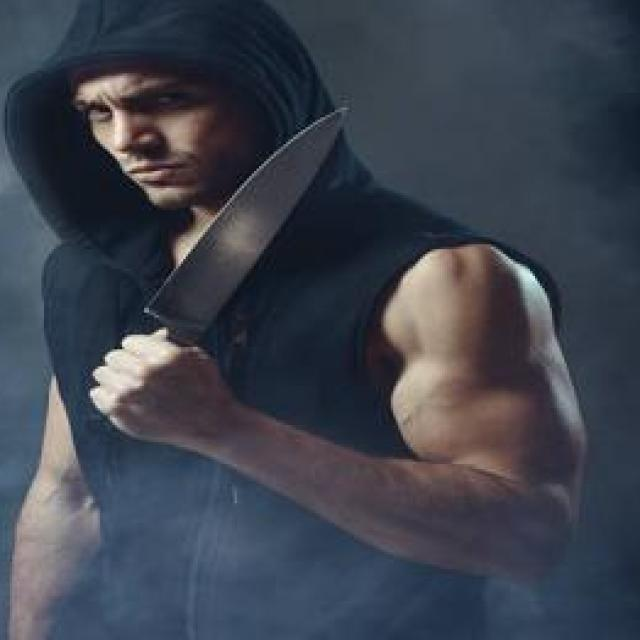knife: (115, 100, 349, 346)
